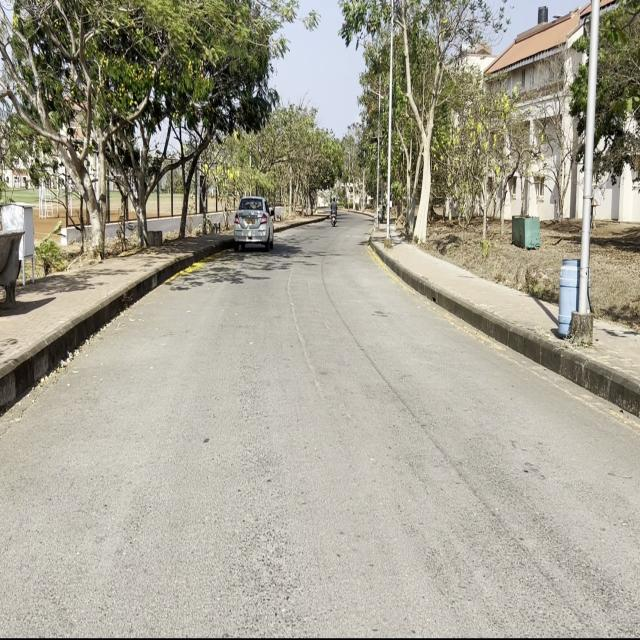Object: (232, 190, 276, 258), (326, 194, 339, 226)
Road: (4, 216, 633, 628)
